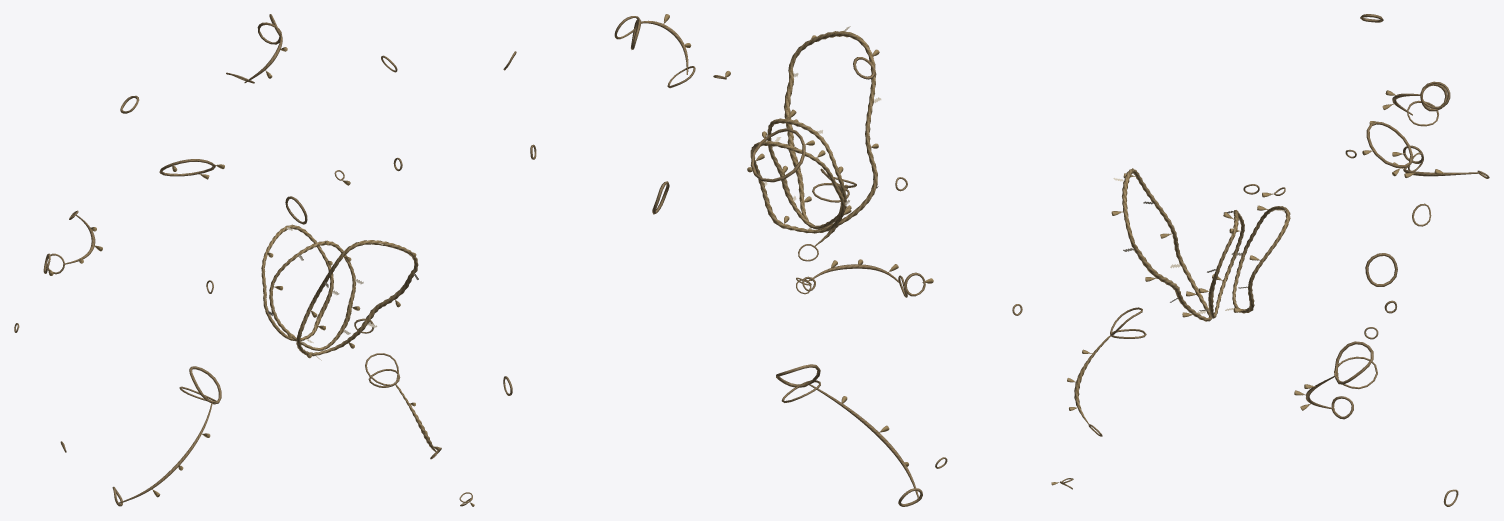
Rendered from SM_EastLands_HeroTree_Rope.fbx.
3 renders of one model, left to right at view 1: azimuth 30°, elevation 25°; view 2: azimuth 150°, elevation 25°; view 3: azimuth 270°, elevation 25°, orthographic. The views are drawn at different scales.
Parts seen in each view (by area): view 1: SM_EastLands_HeroTree_Rope_LOD0; view 2: SM_EastLands_HeroTree_Rope_LOD0; view 3: SM_EastLands_HeroTree_Rope_LOD0.
Boxes of the visible parts, <box> form: SM_EastLands_HeroTree_Rope_LOD0: <box>14,14,474,506</box>; SM_EastLands_HeroTree_Rope_LOD0: <box>503,14,1022,506</box>; SM_EastLands_HeroTree_Rope_LOD0: <box>1051,14,1489,506</box>.
Size of the model in its own units: 4393 by 3762 by 4155.
